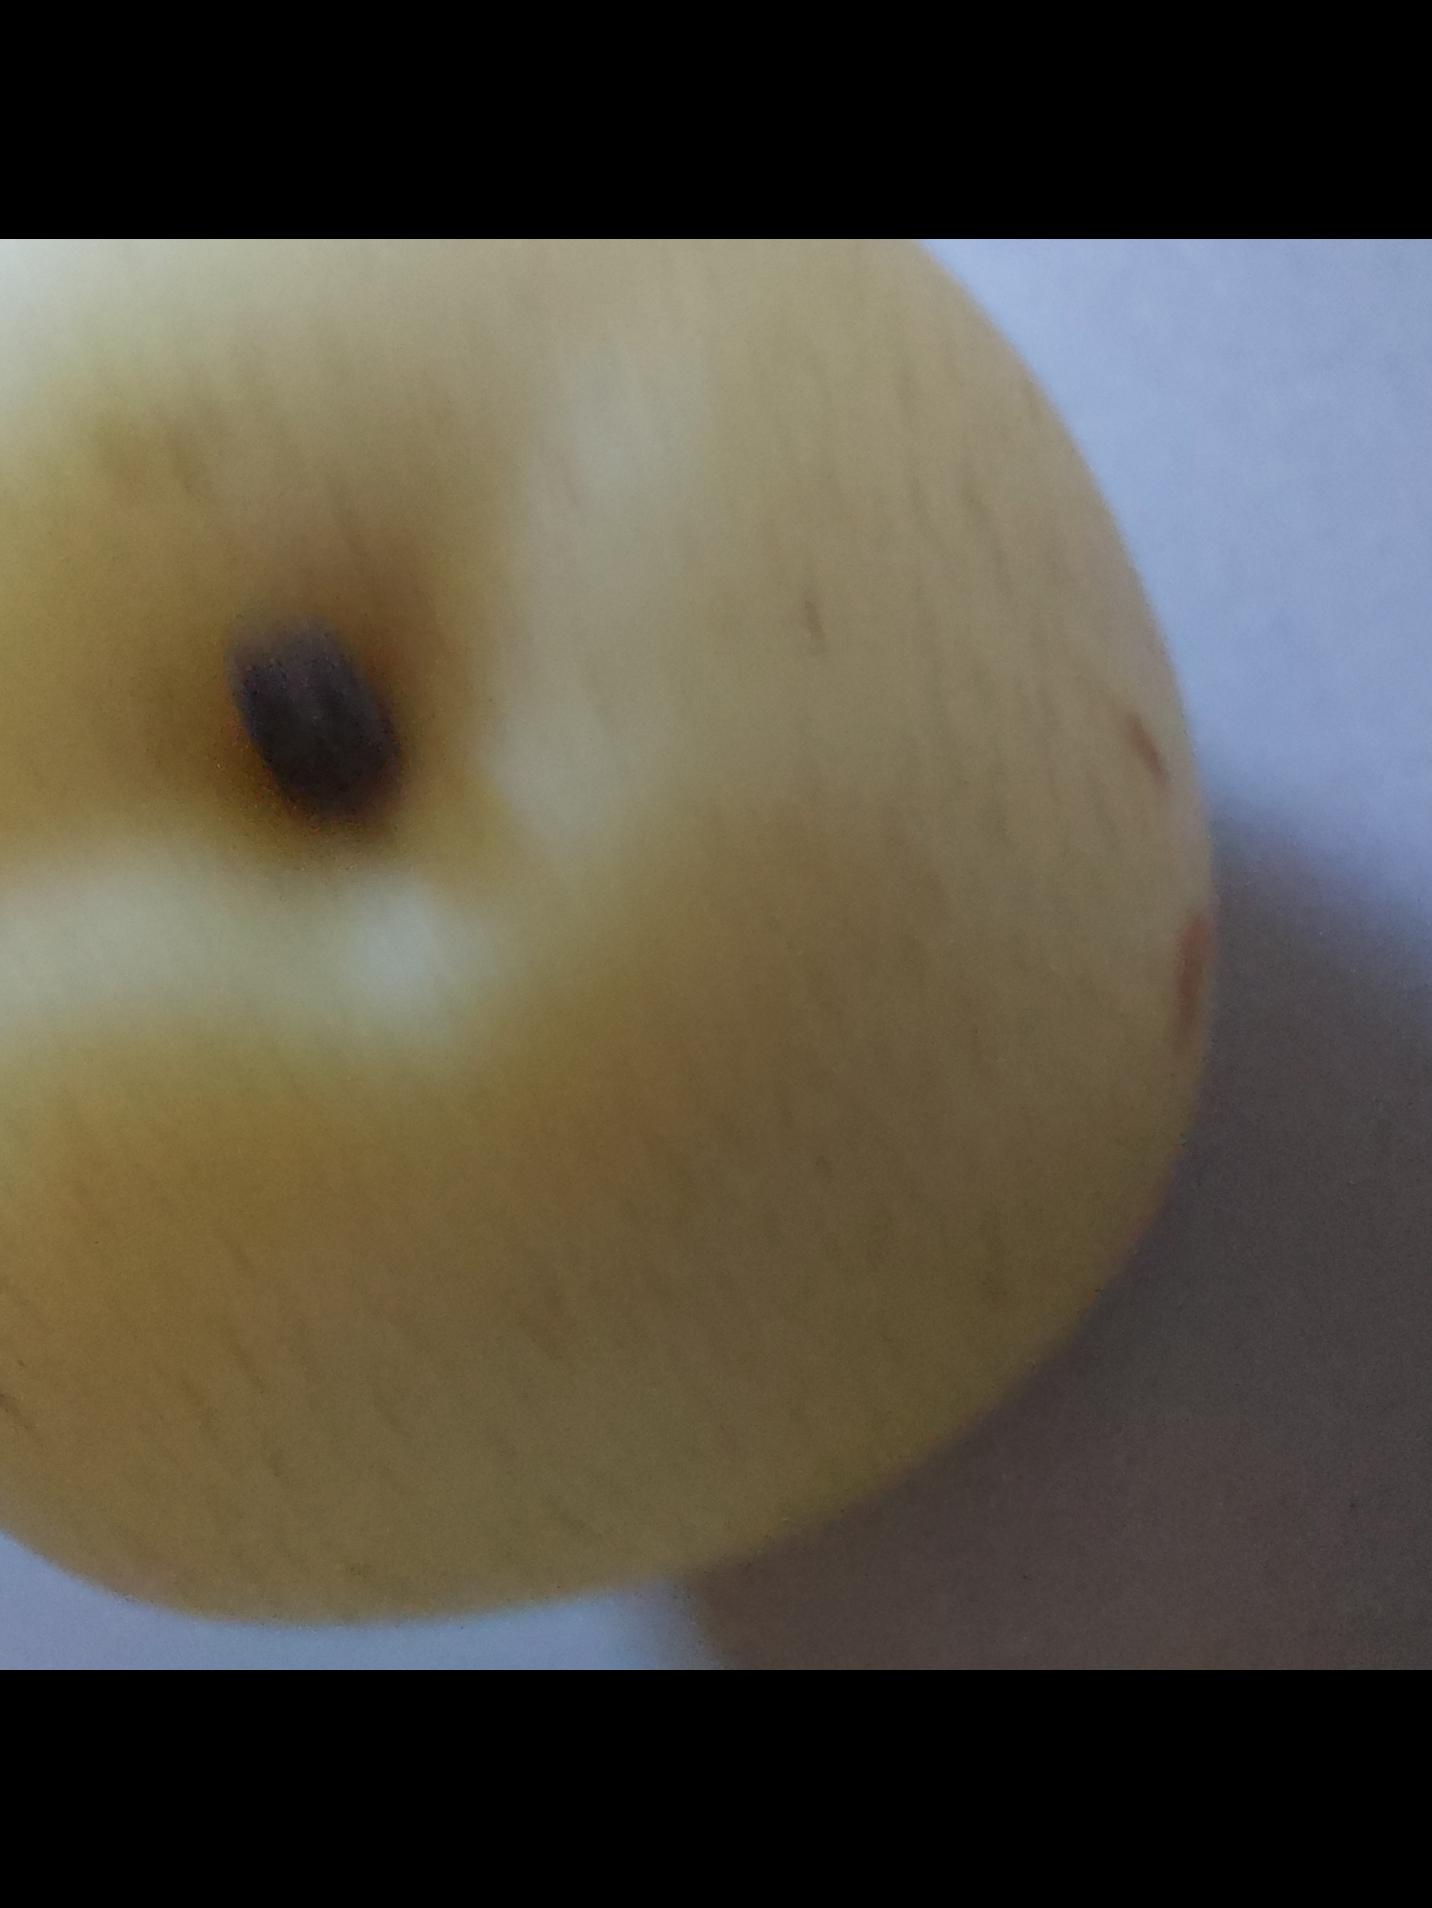Good Pear: (0, 238, 1355, 1670)
